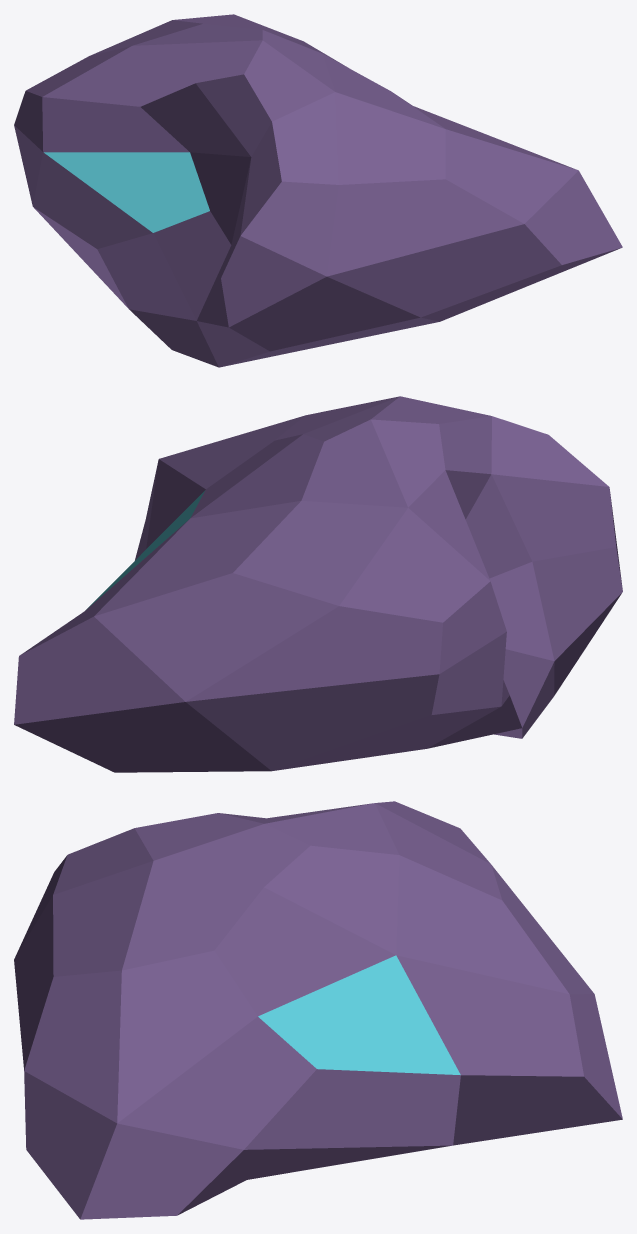
Rendered from Mushroom_Stone_01.fbx.
The picture shows the model from 3 angles, top to bottom: view 1: azimuth 30°, elevation 25°; view 2: azimuth 150°, elevation 25°; view 3: azimuth 270°, elevation 25°; orthographic projection. The views are drawn at different scales.
Visible parts, largest first — view 1: Single_Stone_01; view 2: Single_Stone_01; view 3: Single_Stone_01.
Part boxes in pixels (x1=…): Single_Stone_01: x1=14, y1=14, x2=622, y2=367; Single_Stone_01: x1=14, y1=396, x2=622, y2=772; Single_Stone_01: x1=14, y1=801, x2=622, y2=1219.
Bounding box in the file's own units: 58.14 × 32.95 × 60.38.
